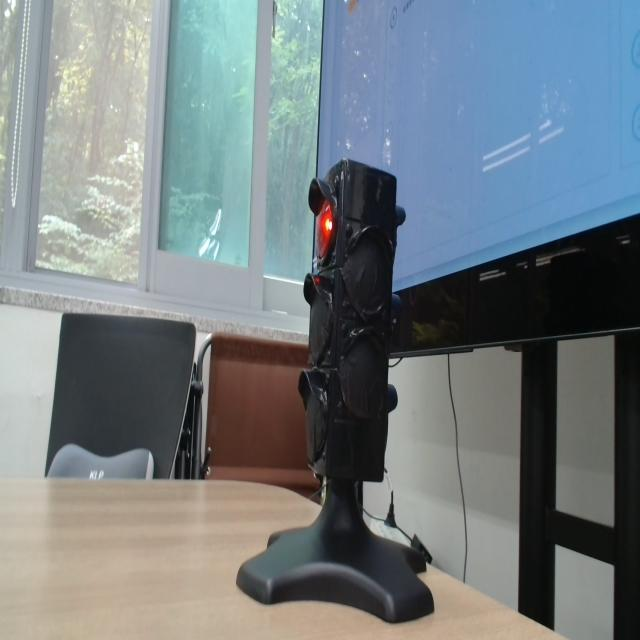red_light: (316, 200, 334, 260)
